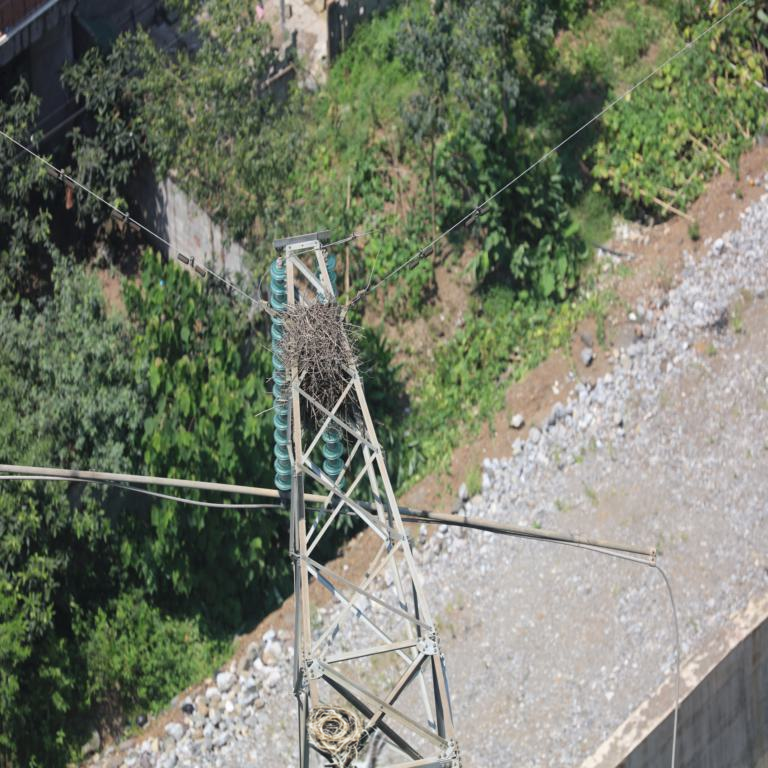nest: (284, 304, 361, 422), (305, 706, 369, 759)
